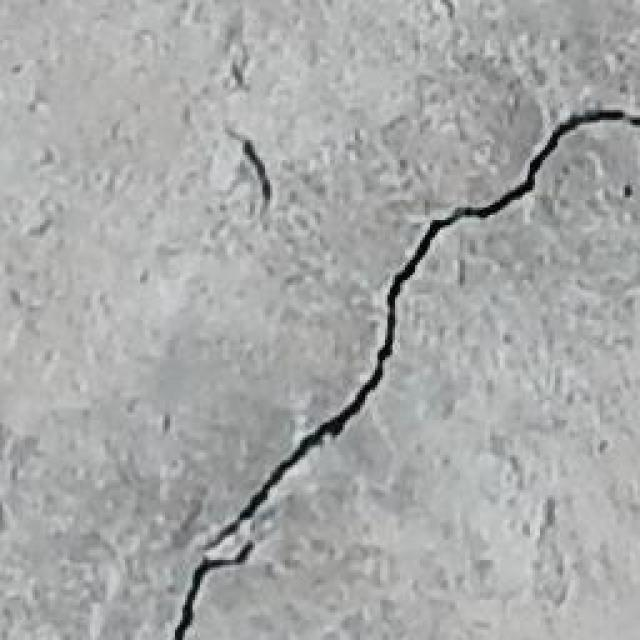concrete-crack: (167, 104, 640, 640), (239, 134, 273, 233)
